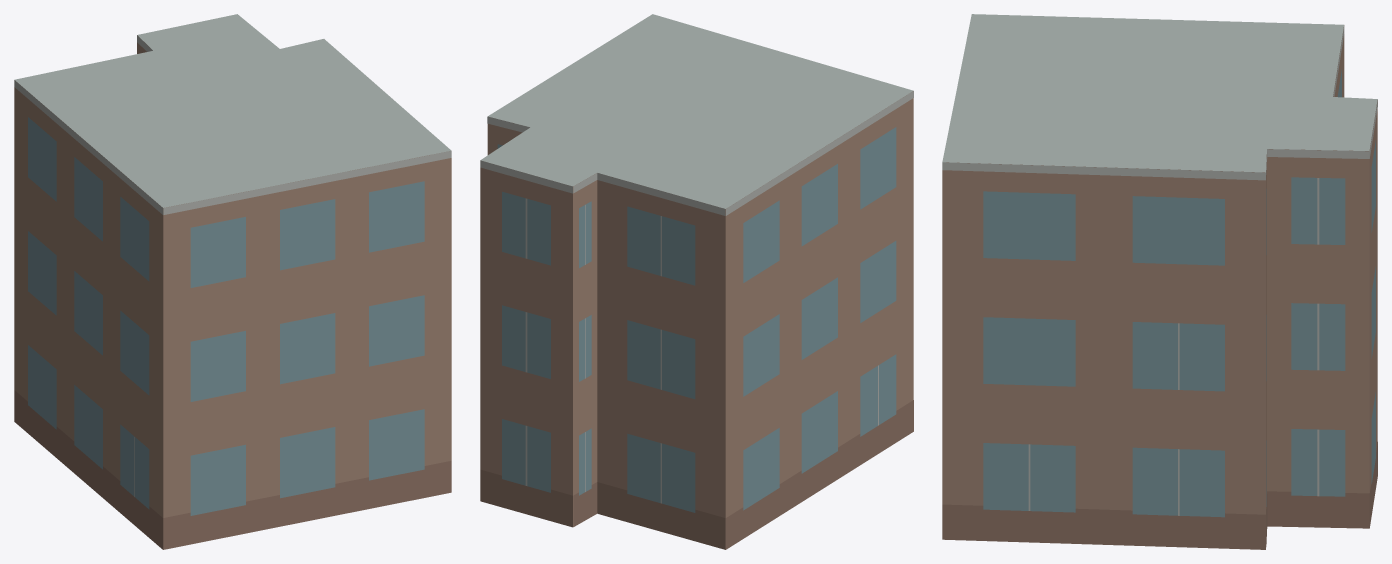
Rendered from survey-upis-32836663.glb.
The picture shows the model from 3 angles, left to right: view 1: azimuth 30°, elevation 25°; view 2: azimuth 150°, elevation 25°; view 3: azimuth 270°, elevation 25°; orthographic projection. The views are drawn at different scales.
Visible parts, largest first — view 1: survey-upis-32836663.tmp; view 2: survey-upis-32836663.tmp; view 3: survey-upis-32836663.tmp.
Boxes of the visible parts, bbox=[...] form: survey-upis-32836663.tmp: bbox=[14, 14, 451, 549]; survey-upis-32836663.tmp: bbox=[480, 14, 913, 549]; survey-upis-32836663.tmp: bbox=[942, 14, 1377, 549].
Bounding box in the file's own units: 10.46 × 11.6 × 12.14.
